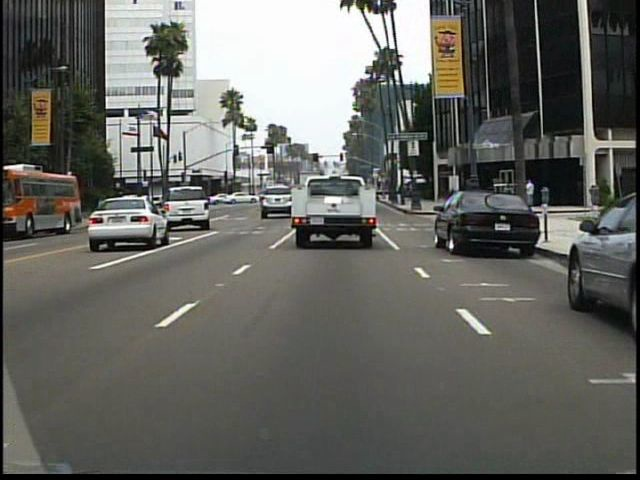person: (526, 177, 537, 196)
